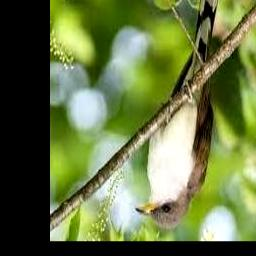Cuckoo: (135, 0, 222, 228)
